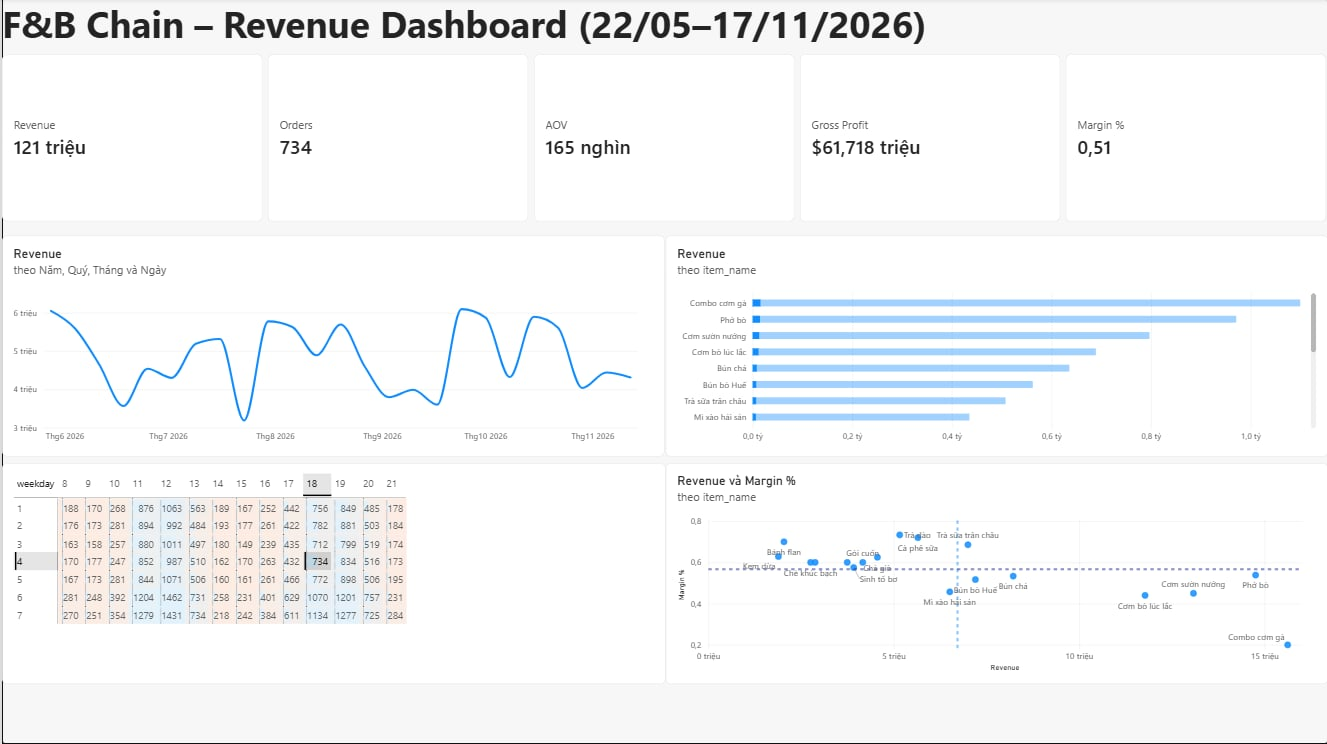

This screenshot's page, from the dashboard's own definition file:
{"tool":"powerbi","page":{"name":"Trang 1","canvas":[1920,1080],"ordinal":0},"visuals":[{"type":"textbox","box":[0,0,1393.5,82.3],"z":0},{"type":"cardVisual","fields":{"Data":["order_items.Revenue","order_items.Orders","order_items.AOV","order_items.Gross Profit","order_items.Margin %"]},"box":[0,82.3,1920.4,242.9],"z":1000},{"type":"lineChart","fields":{"Category":["orders.order_time.Variation.Phân cấp ngày tháng.Năm","orders.order_time.Variation.Phân cấp ngày tháng.Quý","orders.order_time.Variation.Phân cấp ngày tháng.Tháng","orders.order_time.Variation.Phân cấp ngày tháng.Ngày"],"Y":["order_items.Revenue"]},"box":[0,343.8,959.1,320.3],"z":2000},{"type":"barChart","fields":{"Category":["menu.item_name"],"Y":["order_items.Revenue"]},"box":[960.9,343.8,959.1,320.3],"z":3000},{"type":"pivotTable","fields":{"Columns":["orders.hour"],"Rows":["orders.weekday"],"Values":["order_items.Orders"]},"box":[0,673.2,960.9,320.3],"z":4000},{"type":"scatterChart","fields":{"Category":["menu.item_name"],"X":["order_items.Revenue"],"Y":["order_items.Margin %"]},"box":[961,673,959,320],"z":4001}]}

Visuals, with their boxes in screenshot pixels (x1, y1, x2, y2), scaled from the page's 1920x1080 canvas onto the 1327x744 screenshot:
textbox: bbox(0, 0, 963, 57)
cardVisual - order_items.Revenue x order_items.Orders: bbox(0, 57, 1326, 224)
lineChart - orders.order_time.Variation.Phân cấp ngày tháng.Năm x orders.order_time.Variation.Phân cấp ngày tháng.Quý: bbox(0, 237, 663, 457)
barChart - menu.item_name x order_items.Revenue: bbox(664, 237, 1326, 457)
pivotTable - orders.hour x orders.weekday: bbox(0, 464, 664, 684)
scatterChart - menu.item_name x order_items.Revenue: bbox(664, 464, 1326, 684)
